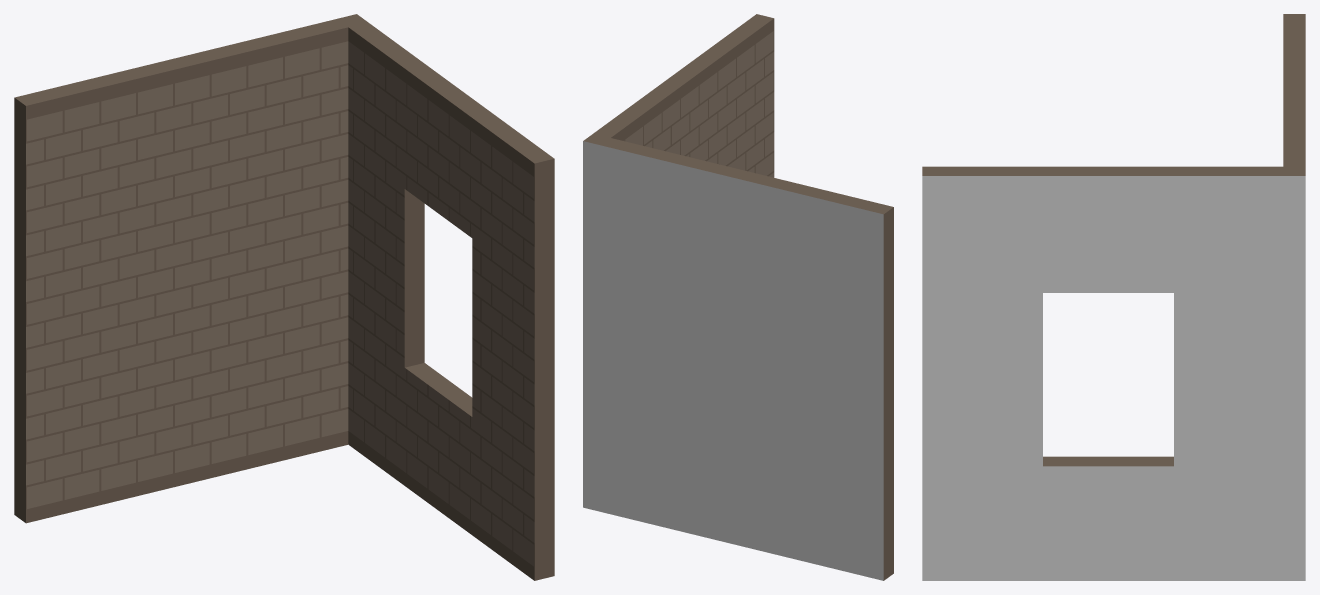
File: Wall1_C10_08.fbx
3 views of the same model, side by side, from view 1: azimuth 30°, elevation 25°; view 2: azimuth 150°, elevation 25°; view 3: azimuth 270°, elevation 25° (orthographic). The views are drawn at different scales.
Visible parts, largest first — view 1: Wall1_C10_08; view 2: Wall1_C10_08; view 3: Wall1_C10_08.
Part boxes in pixels (bbox=[...]): Wall1_C10_08: bbox=[14, 14, 554, 580]; Wall1_C10_08: bbox=[583, 14, 893, 580]; Wall1_C10_08: bbox=[922, 14, 1305, 580].
Bounding box in the file's own units: 258 × 300 × 258.
